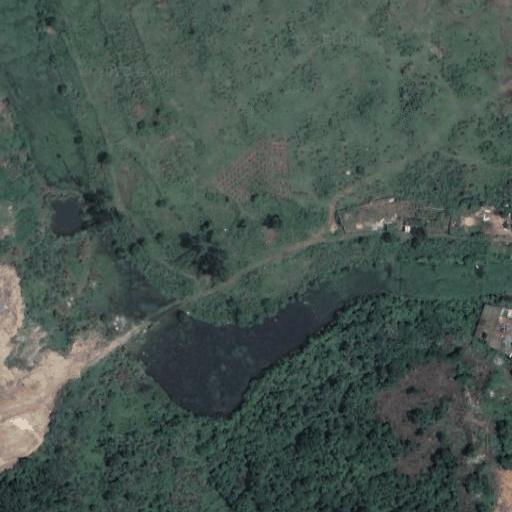building: (475, 302, 501, 337), (484, 335, 512, 358), (503, 309, 512, 318)
